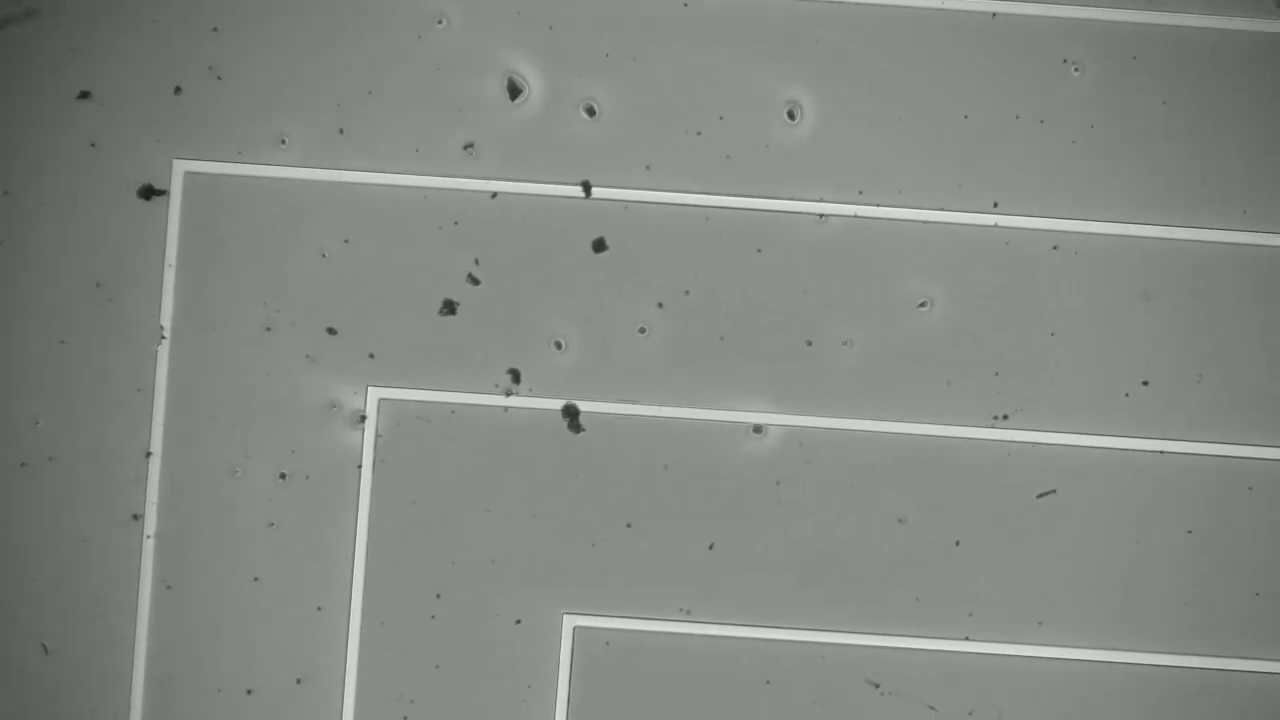edge_bite: (143, 315, 186, 356)
stains_enbedded: (558, 386, 595, 441), (572, 170, 602, 206)
